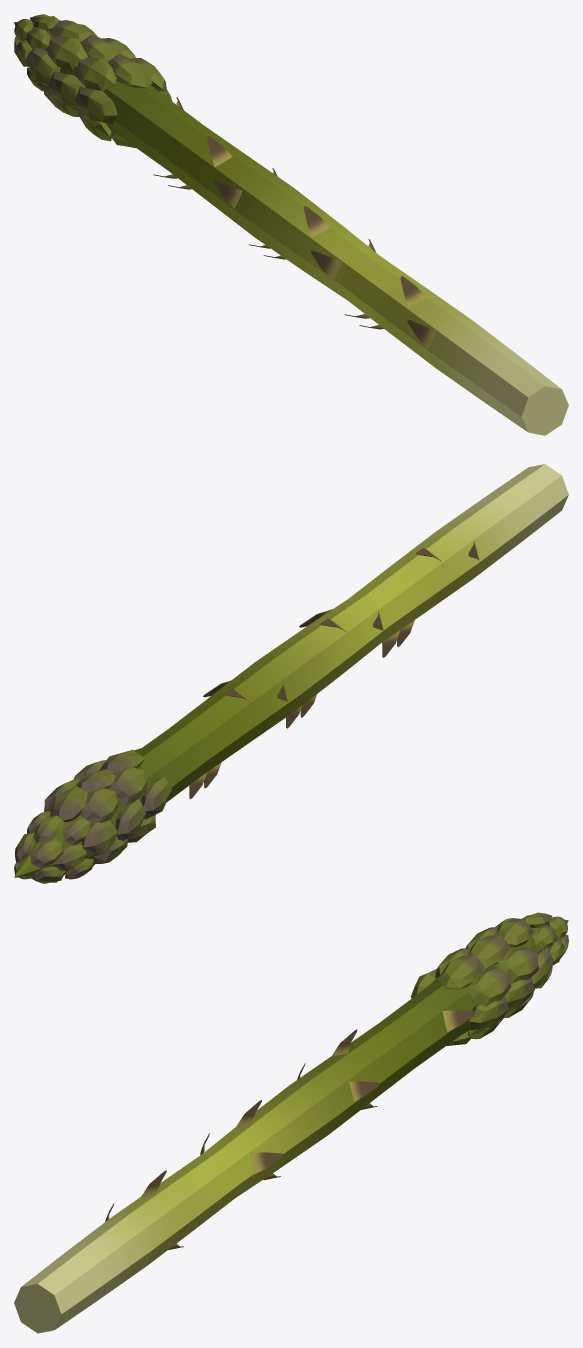
File: 75f7be6b-82f5-40b6-b6a0-afc49a1e0a05.glb
3 views of the same model, one above another, from view 1: azimuth 30°, elevation 25°; view 2: azimuth 150°, elevation 25°; view 3: azimuth 330°, elevation 25° (orthographic).
Visible parts, largest first — view 1: Node; view 2: Node; view 3: Node.
Boxes of the visible parts, left/top/right/bottom form: Node: left=14, top=14, right=568, bottom=435; Node: left=14, top=464, right=568, bottom=883; Node: left=14, top=912, right=568, bottom=1333.
Bounding box in the file's own units: 0.4077 × 0.3895 × 4.64.
Materials: 1 (1 with a texture image).
